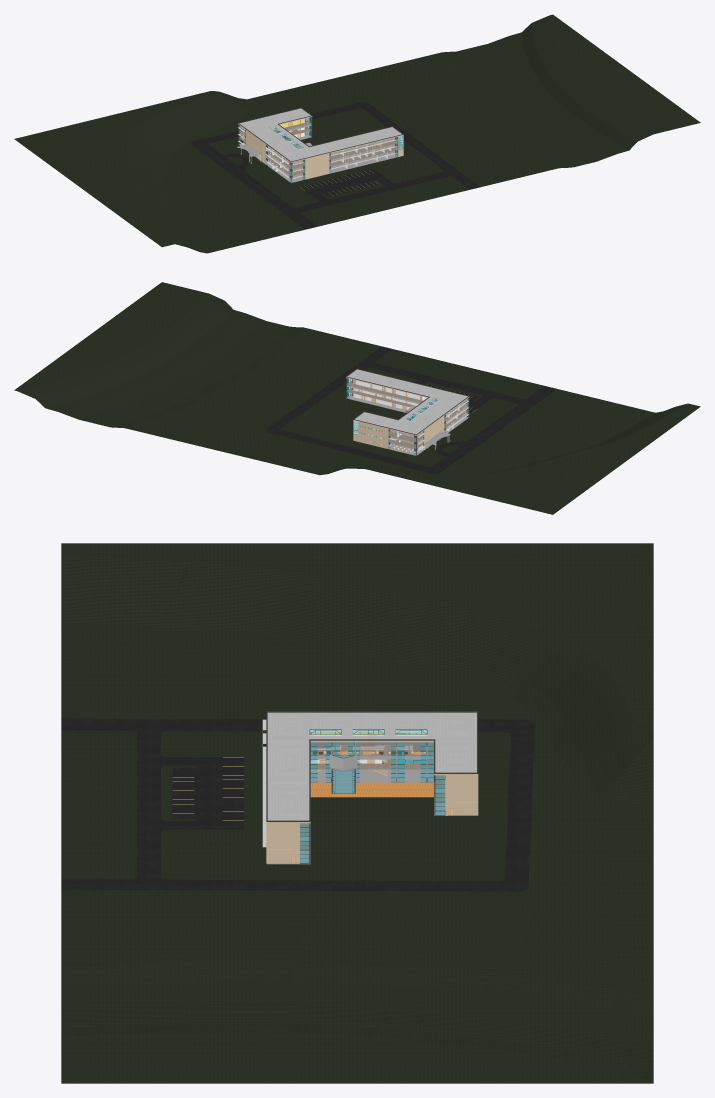
The model's file is NoLod_0.glb.
3 views of the same model, one above another, from view 1: azimuth 30°, elevation 25°; view 2: azimuth 150°, elevation 25°; view 3: azimuth 270°, elevation 25° (orthographic). The views are drawn at different scales.
Visible parts, largest first — view 1: rtc; view 2: rtc; view 3: rtc.
Part boxes in pixels (bbox=[...]): rtc: bbox=[14, 14, 700, 253]; rtc: bbox=[14, 282, 700, 514]; rtc: bbox=[61, 543, 653, 1083].
Bounding box in the file's own units: 319 × 14.31 × 152.
Materials: 36 (18 with a texture image).
